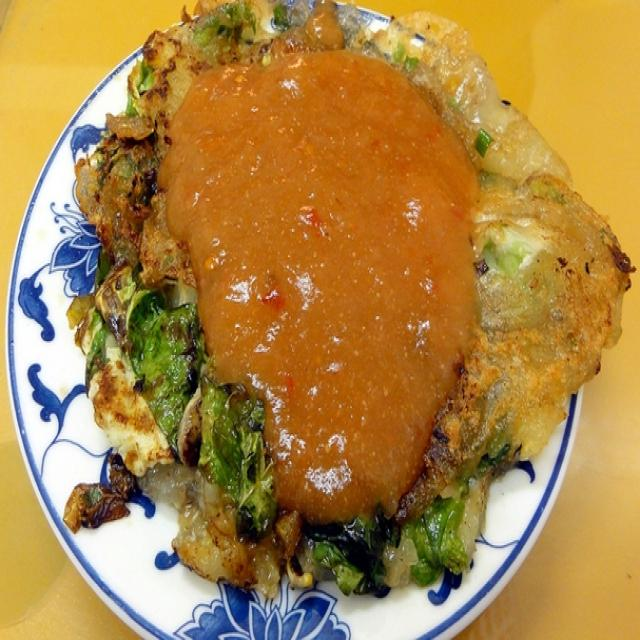熟制海鲜: (19, 9, 614, 618)
